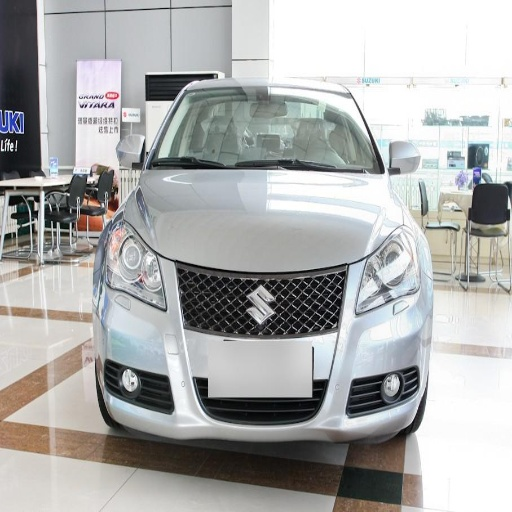front_bumper: (102, 256, 430, 440)
front_right_light: (104, 218, 166, 309)
hood: (125, 169, 401, 271)
